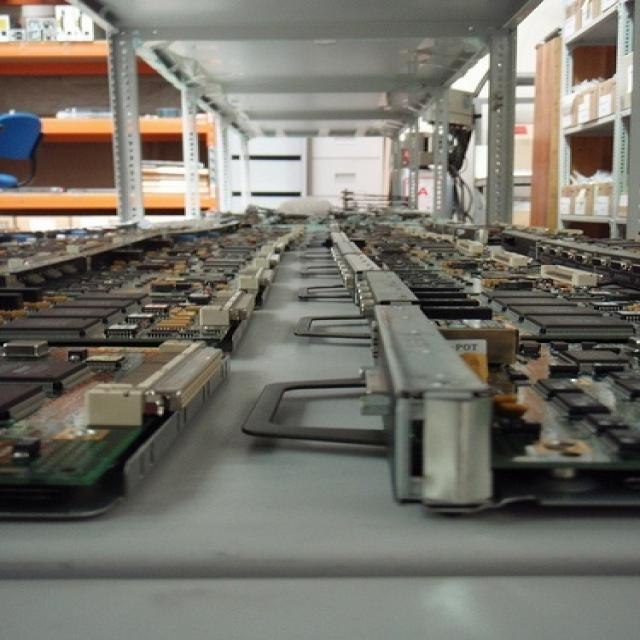E-waste: (12, 191, 640, 526)
